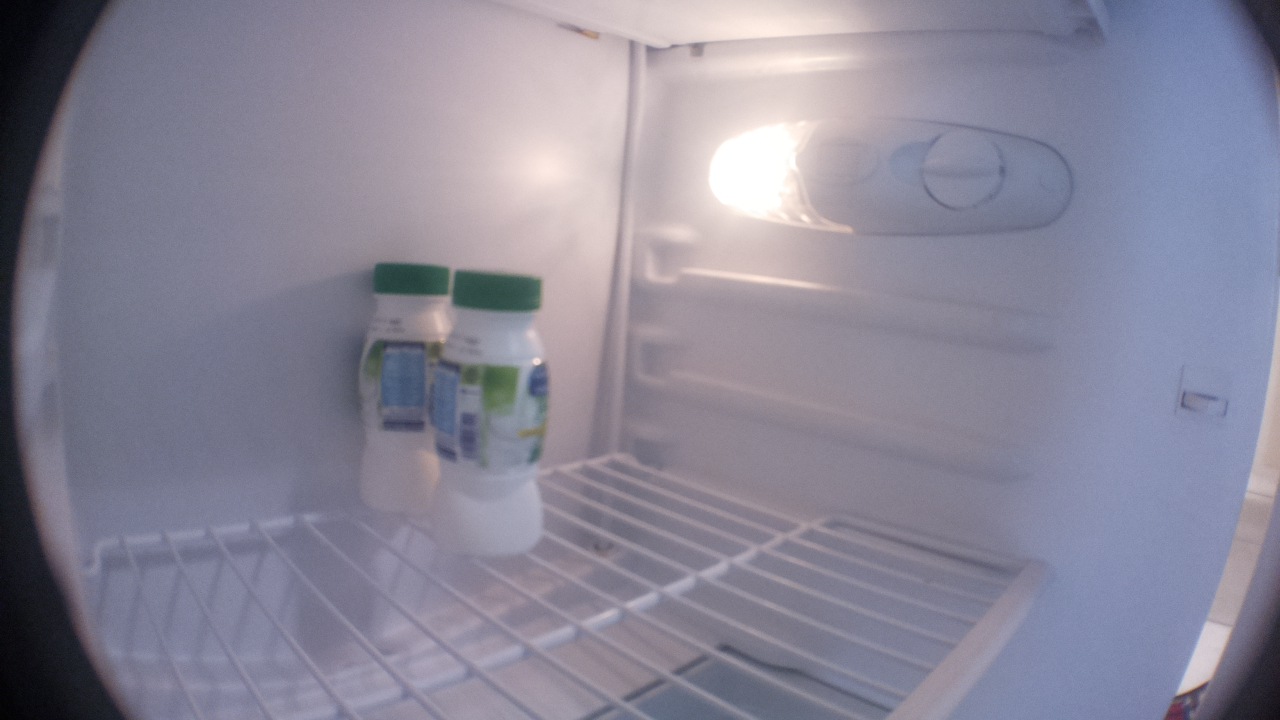laban: (434, 267, 550, 555), (353, 259, 452, 513)
